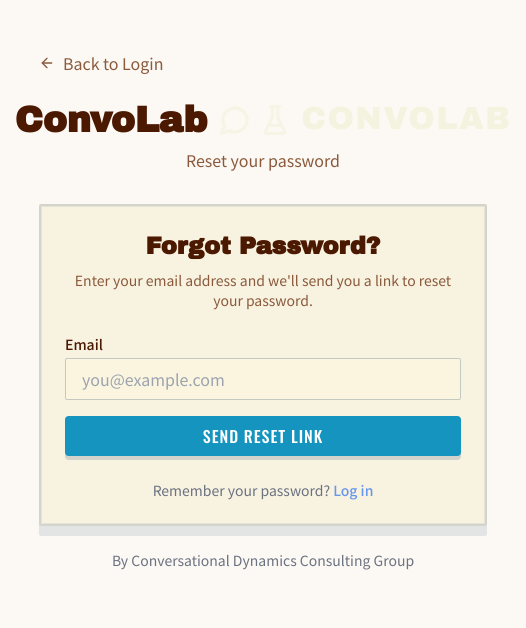
ForgotPasswordPage › Form Submission › should submit email and show success message
Type "test@example.com" into the field labelled "Email" at (263, 378), box [65,358,461,400]
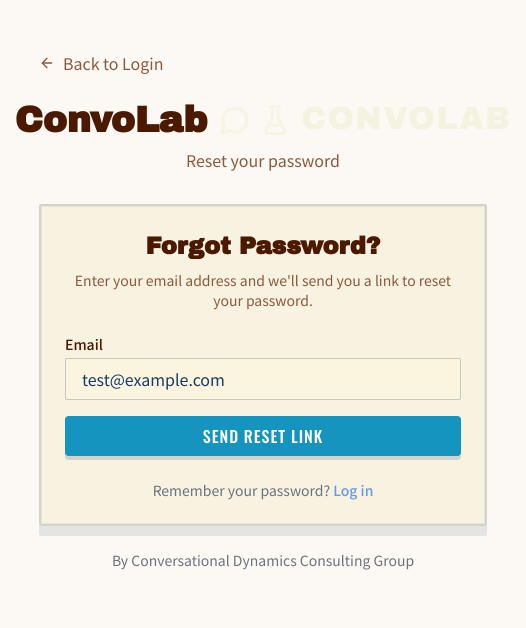
Click the button "Send Reset Link" at (263, 436), box [65,416,461,456]
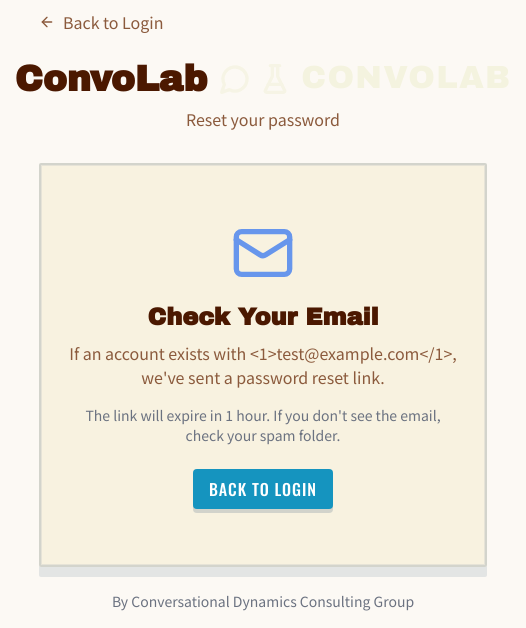
Now the heading "Check Your Email" is shown, box [148,304,378,330]
Now the text "test@example.com" is shown, box [69,340,457,388]
Now the text "The link will expire in 1 hour" is shown, box [85,404,441,444]
